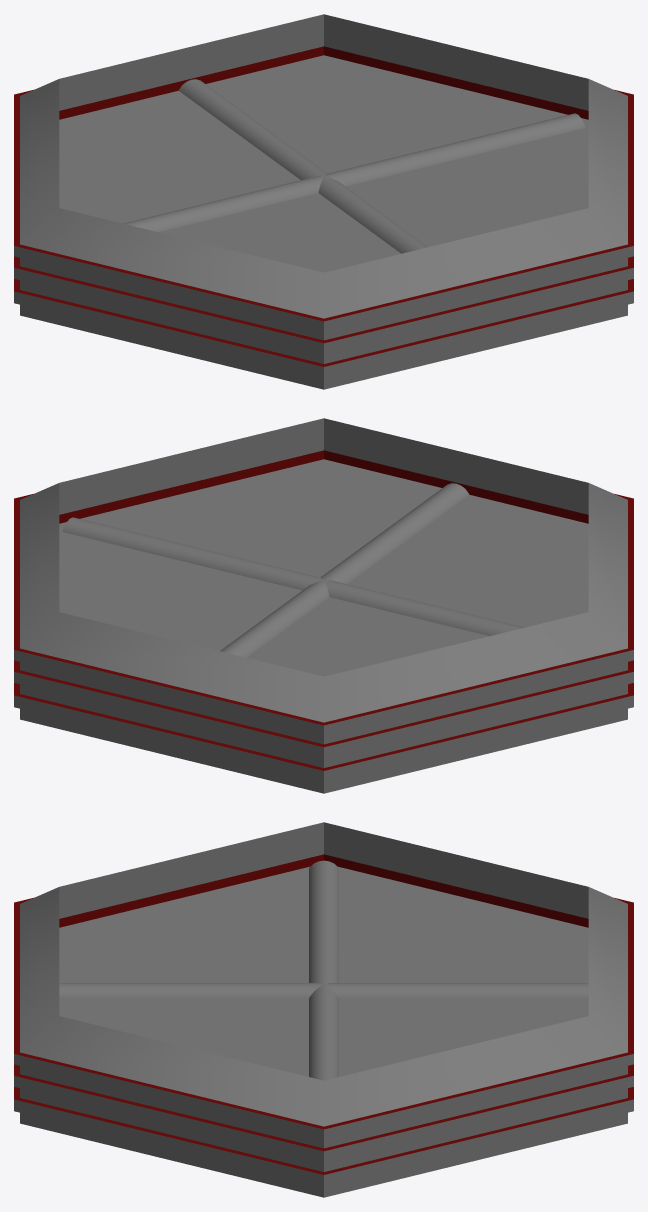
The model's file is Platform_Light_Export.fbx.
3 renders of one model, top to bottom at view 1: azimuth 30°, elevation 25°; view 2: azimuth 150°, elevation 25°; view 3: azimuth 270°, elevation 25°, orthographic.
Visible parts, largest first — view 1: pPipe1, pCylinder1, pasted__pPipe2, pPipe2; view 2: pPipe1, pCylinder1, pasted__pPipe2, pPipe2; view 3: pPipe1, pCylinder1, pPipe2, pasted__pPipe2.
Boxes of the visible parts, left/top/right/bottom form: pPipe1: left=14, top=14, right=633, bottom=387; pCylinder1: left=20, top=55, right=627, bottom=389; pasted__pPipe2: left=123, top=113, right=585, bottom=231; pPipe2: left=178, top=79, right=427, bottom=253; pPipe1: left=14, top=418, right=633, bottom=791; pCylinder1: left=20, top=459, right=627, bottom=793; pasted__pPipe2: left=62, top=517, right=524, bottom=635; pPipe2: left=220, top=483, right=469, bottom=657; pPipe1: left=14, top=822, right=633, bottom=1195; pCylinder1: left=20, top=866, right=627, bottom=1197; pPipe2: left=59, top=983, right=588, bottom=998; pasted__pPipe2: left=309, top=860, right=338, bottom=1080.
Bounding box in the file's own units: 2.04 × 0.3074 × 1.77.
